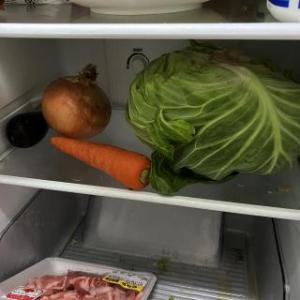cabbage: (123, 40, 300, 196)
carrot: (48, 136, 152, 190)
eggplant: (3, 112, 49, 150)
onion: (40, 63, 112, 142)
